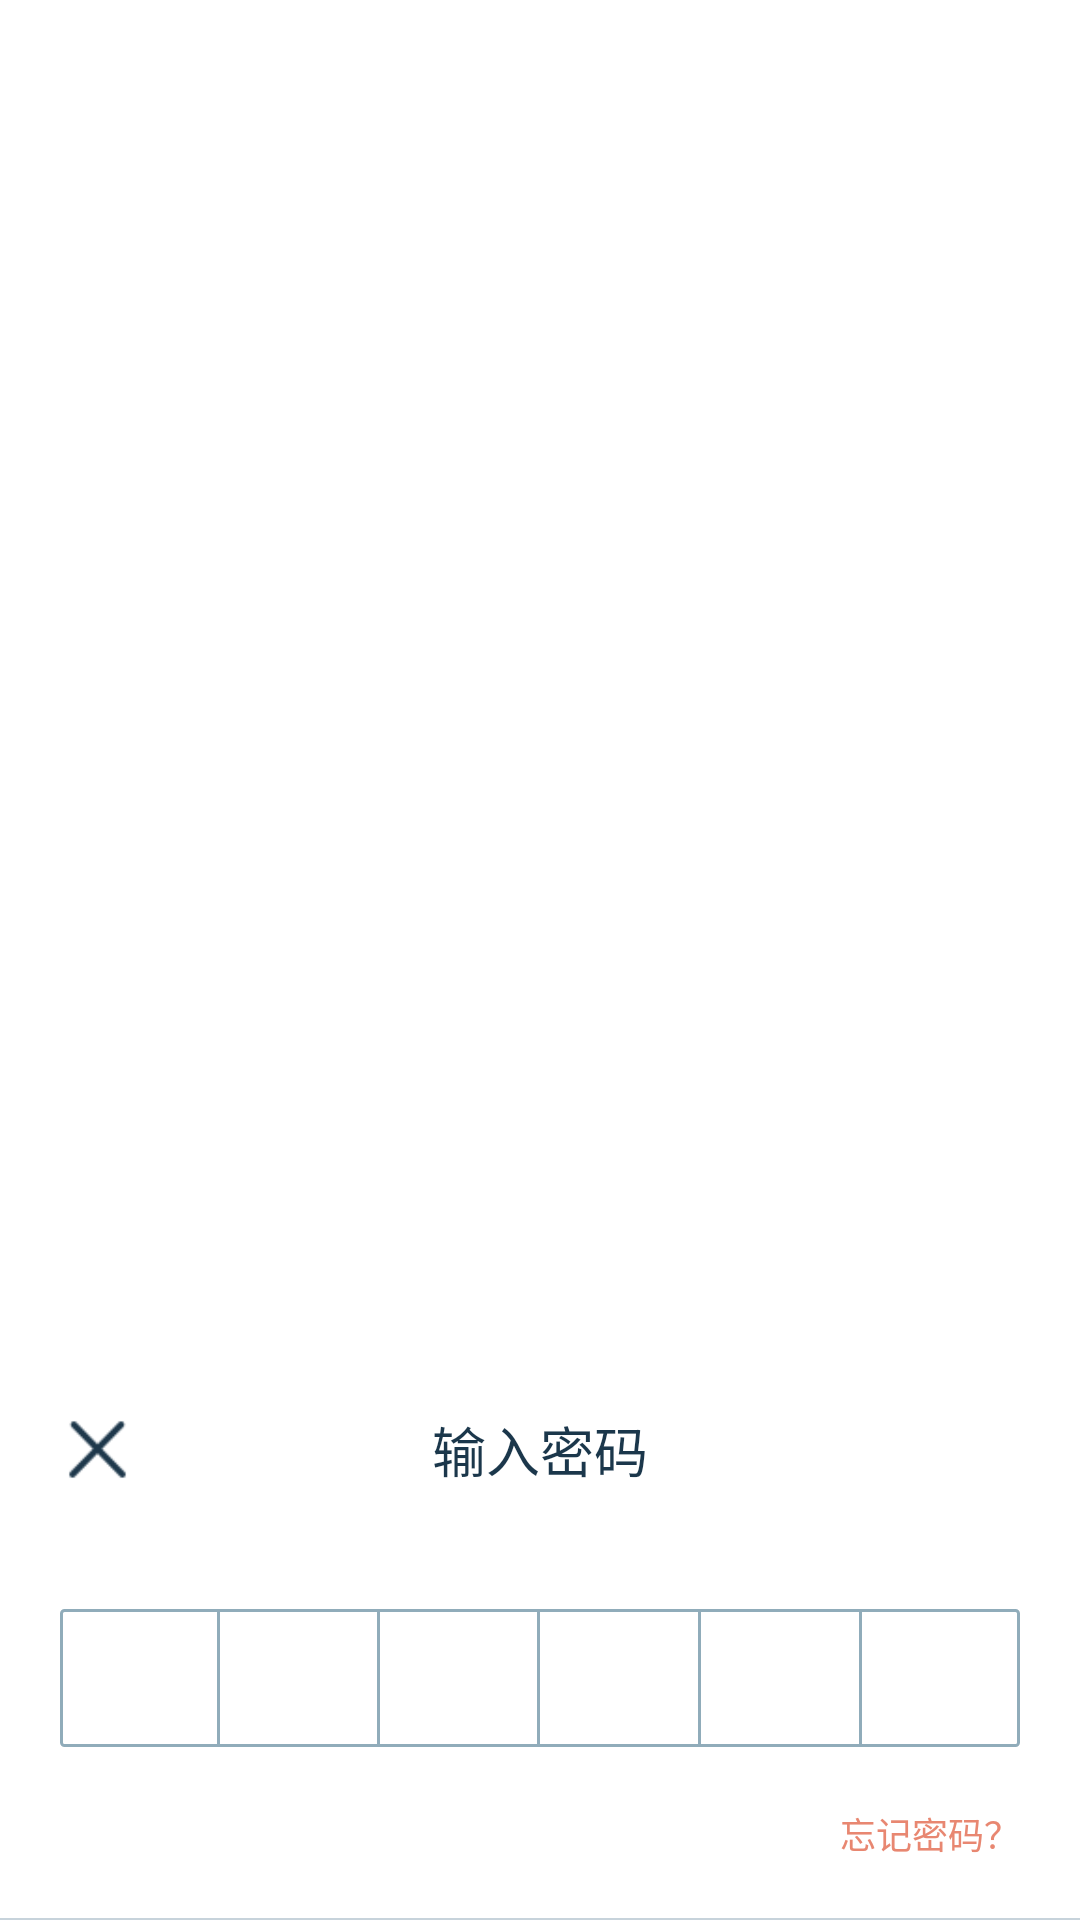

Icons on this 1080 x 1920 Android screen, each with its box as (x1, y1, x2, y2):
close: (69, 1421, 126, 1478)
